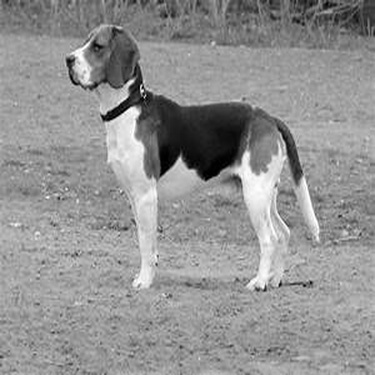dog: (52, 15, 330, 308)
